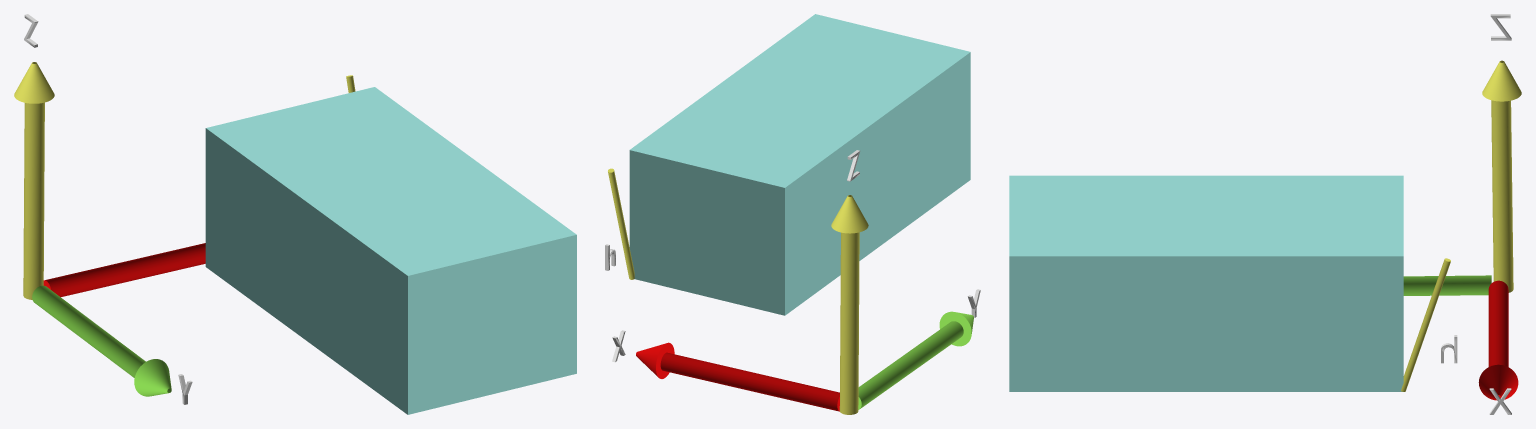
3 renders of one model, left to right at view 1: azimuth 30°, elevation 25°; view 2: azimuth 150°, elevation 25°; view 3: azimuth 270°, elevation 25°, orthographic. The views are drawn at different scales.
Parts seen in each view (by area): view 1: Cube.003, Cylinder.055, Cylinder.057, Cylinder.056, Cone.044, Cone.043; view 2: Cube.003, Cylinder.057, Cylinder.055, Cylinder.056, Cone.043, Cylinder.054, Cone.045, Cone.044; view 3: Cube.003, Cylinder.055, Cylinder.057, Cylinder.056, Cone.045, Cylinder.054, Cone.043.
Boxes of the visible parts, <box> form: Cube.003: <box>205,87,576,414</box>; Cylinder.055: <box>23,102,44,299</box>; Cylinder.057: <box>43,243,205,296</box>; Cylinder.056: <box>32,285,145,377</box>; Cone.044: <box>134,359,171,396</box>; Cone.043: <box>14,62,54,103</box>; Cube.003: <box>629,14,970,315</box>; Cylinder.057: <box>660,352,839,411</box>; Cylinder.055: <box>839,232,859,414</box>; Cylinder.056: <box>858,321,963,409</box>; Cone.043: <box>831,195,868,233</box>; Cylinder.054: <box>608,168,634,279</box>; Cone.045: <box>636,342,674,378</box>; Cone.044: <box>939,311,973,346</box>; Cube.003: <box>1009,175,1403,391</box>; Cylinder.055: <box>1491,100,1513,292</box>; Cylinder.057: <box>1488,280,1508,366</box>; Cylinder.056: <box>1403,275,1491,295</box>; Cone.045: <box>1478,364,1518,400</box>; Cylinder.054: <box>1401,258,1450,391</box>; Cone.043: <box>1482,60,1521,101</box>.
Size of the model in its own units: 0.1754 by 0.1603 by 0.2589.
